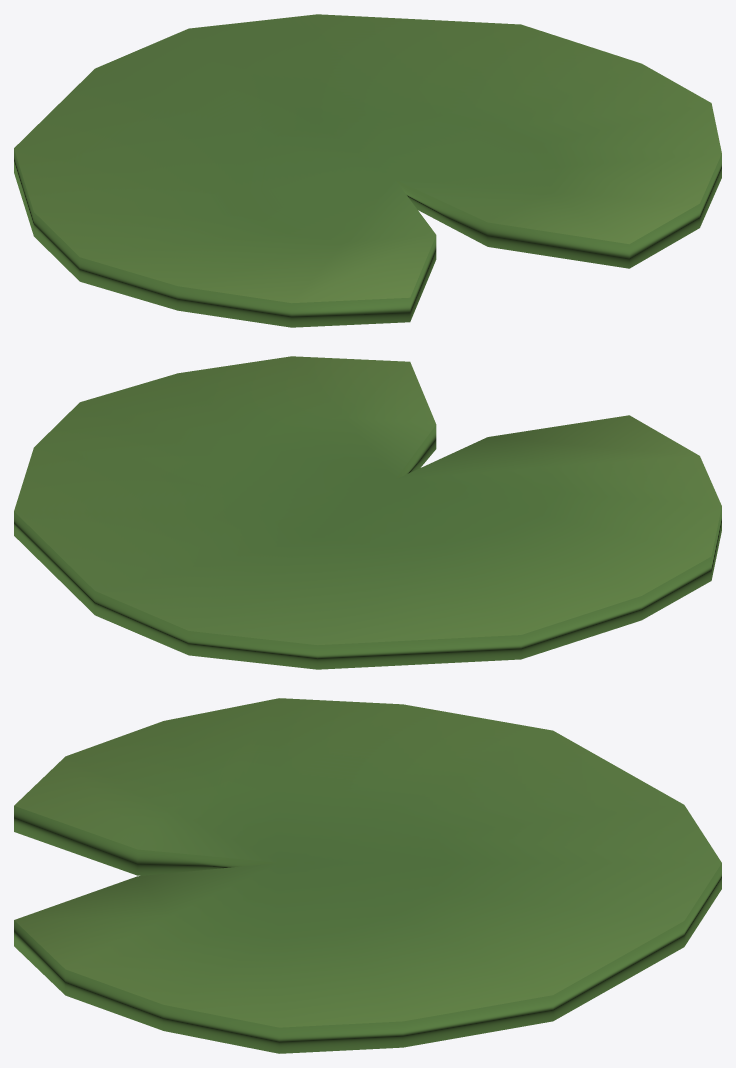
The model's file is underwater-aquatic-plants-lily-pad_v1.glb.
3 renders of one model, top to bottom at view 1: azimuth 30°, elevation 25°; view 2: azimuth 150°, elevation 25°; view 3: azimuth 270°, elevation 25°, orthographic. The views are drawn at different scales.
Visible parts, largest first — view 1: Lily Pad_v1; view 2: Lily Pad_v1; view 3: Lily Pad_v1.
Boxes of the visible parts, x1,y1,x2,y2 form: Lily Pad_v1: (14,14,721,327); Lily Pad_v1: (14,356,721,669); Lily Pad_v1: (14,698,721,1053).
Bounding box in the file's own units: 0.3 × 0.0111 × 0.2724.
